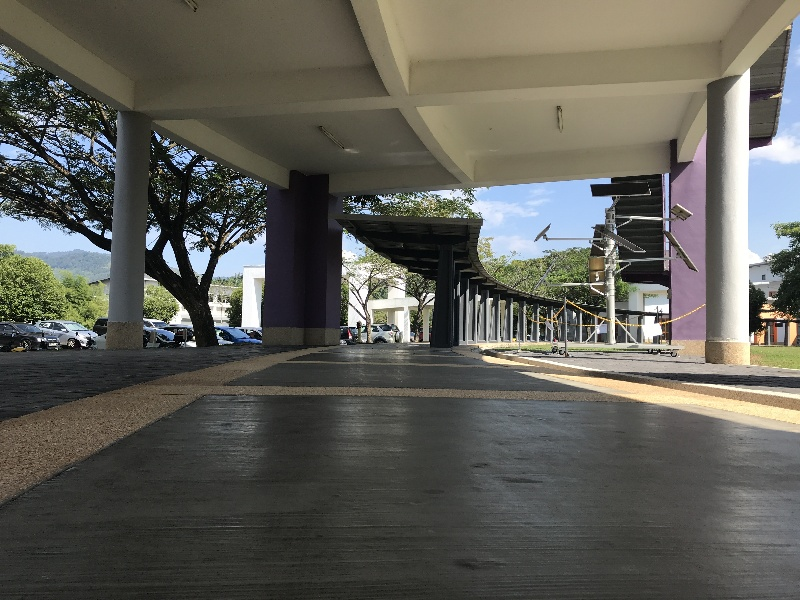Block D corridor: (6, 11, 798, 591)
pillar: (669, 83, 767, 370), (247, 162, 352, 360), (93, 103, 163, 350), (429, 236, 470, 357)
